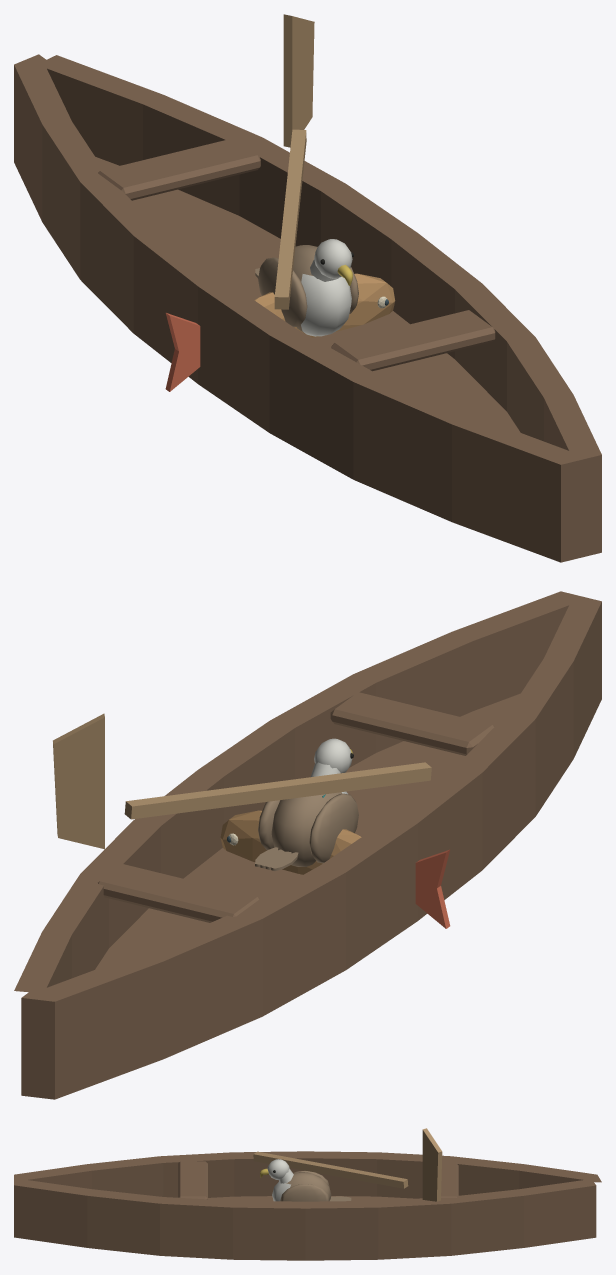
The picture shows the model from 3 angles, top to bottom: view 1: azimuth 30°, elevation 25°; view 2: azimuth 150°, elevation 25°; view 3: azimuth 270°, elevation 25°; orthographic projection. The views are drawn at different scales.
Visible parts, largest first — view 1: canoe, osprey, carp; view 2: canoe, osprey, carp; view 3: canoe, osprey.
Part boxes in pixels (left/top/right/bottom): canoe: left=14, top=14, right=601, bottom=562; osprey: left=255, top=239, right=358, bottom=336; carp: left=165, top=273, right=395, bottom=391; canoe: left=14, top=591, right=601, bottom=1099; osprey: left=255, top=738, right=358, bottom=870; carp: left=220, top=794, right=450, bottom=928; canoe: left=14, top=1128, right=601, bottom=1260; osprey: left=260, top=1159, right=351, bottom=1201.
Size of what is drawn, in the model's own units: 1.33 by 1.12 by 4.69.
